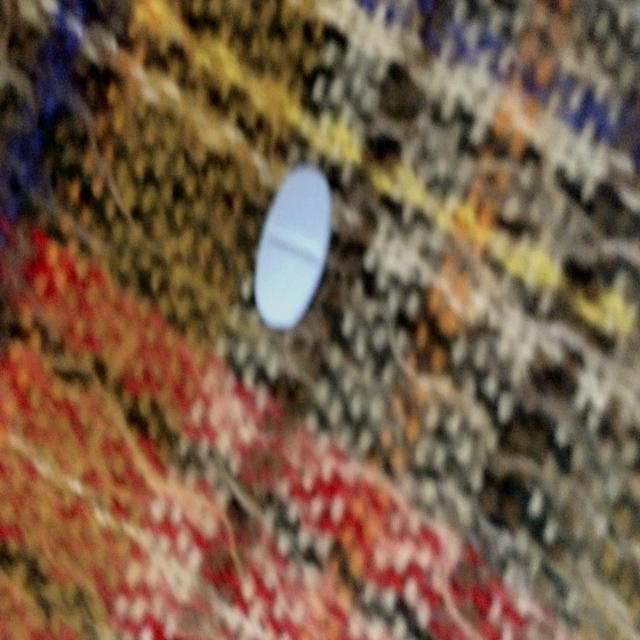pill: (255, 164, 334, 328)
